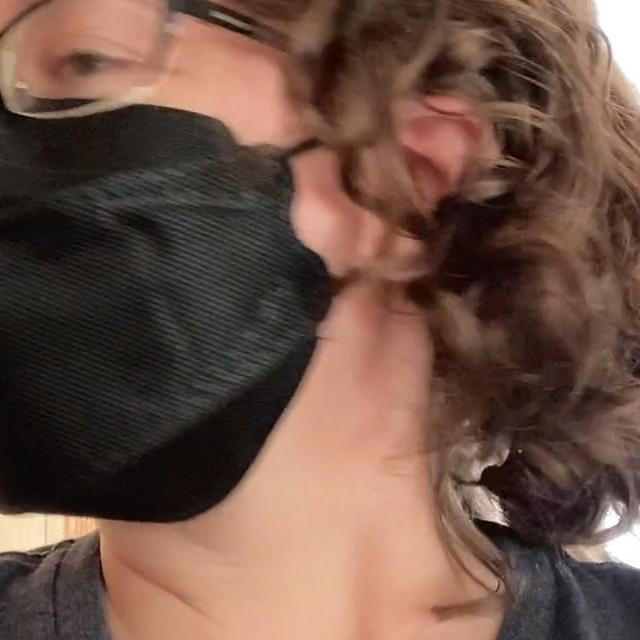Mask: (0, 70, 393, 524)
Person: (0, 0, 640, 640)
